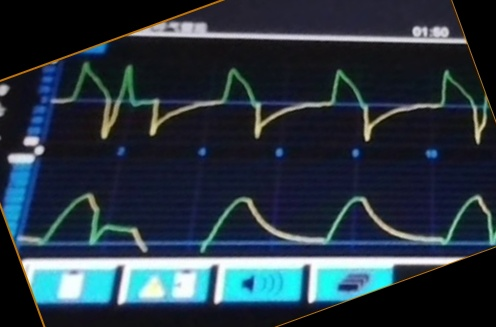Double_Triggering Flow: (55, 58, 471, 143)
Double_Triggering Volume: (19, 189, 482, 251)
